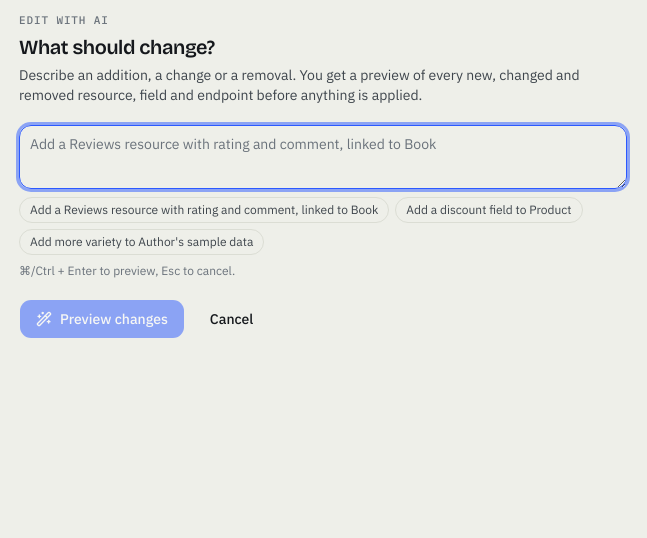
Test case: M7: labels the apply button from non-zero counts only when there are endpoints but no new resources
Type "Add endpoints" into the text box named "Describe what should change" at (323, 156), box [19,124,627,188]
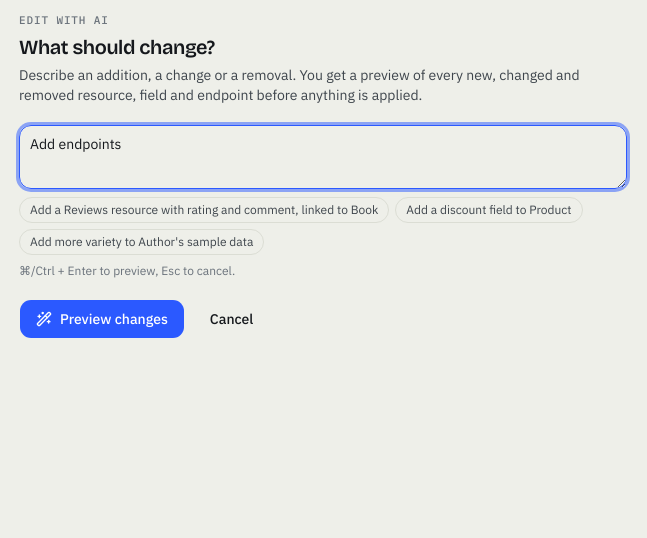
Click the button "Preview changes" at (102, 318), box [19,298,185,338]
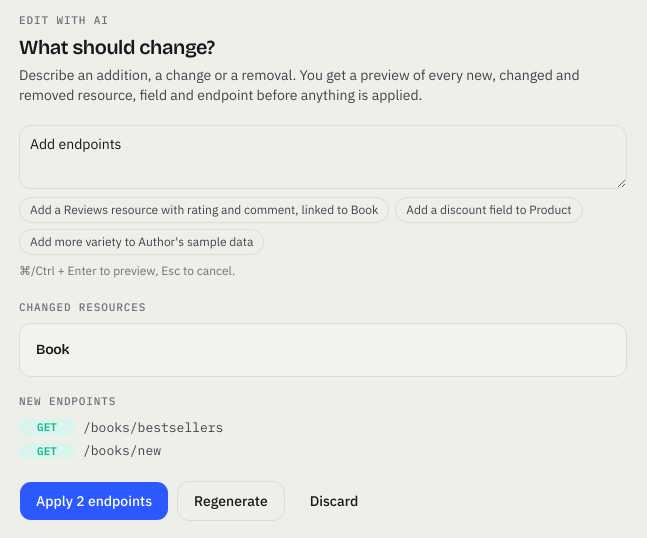
Expected: the button "Apply 2 endpoints" is shown, [19,480,169,520]
